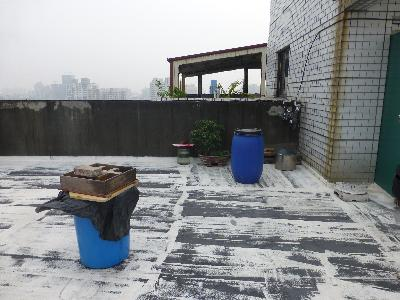bowl: (274, 150, 297, 173)
bucket: (67, 196, 132, 270), (231, 134, 265, 185), (176, 145, 191, 167)
plate: (232, 126, 264, 136)
